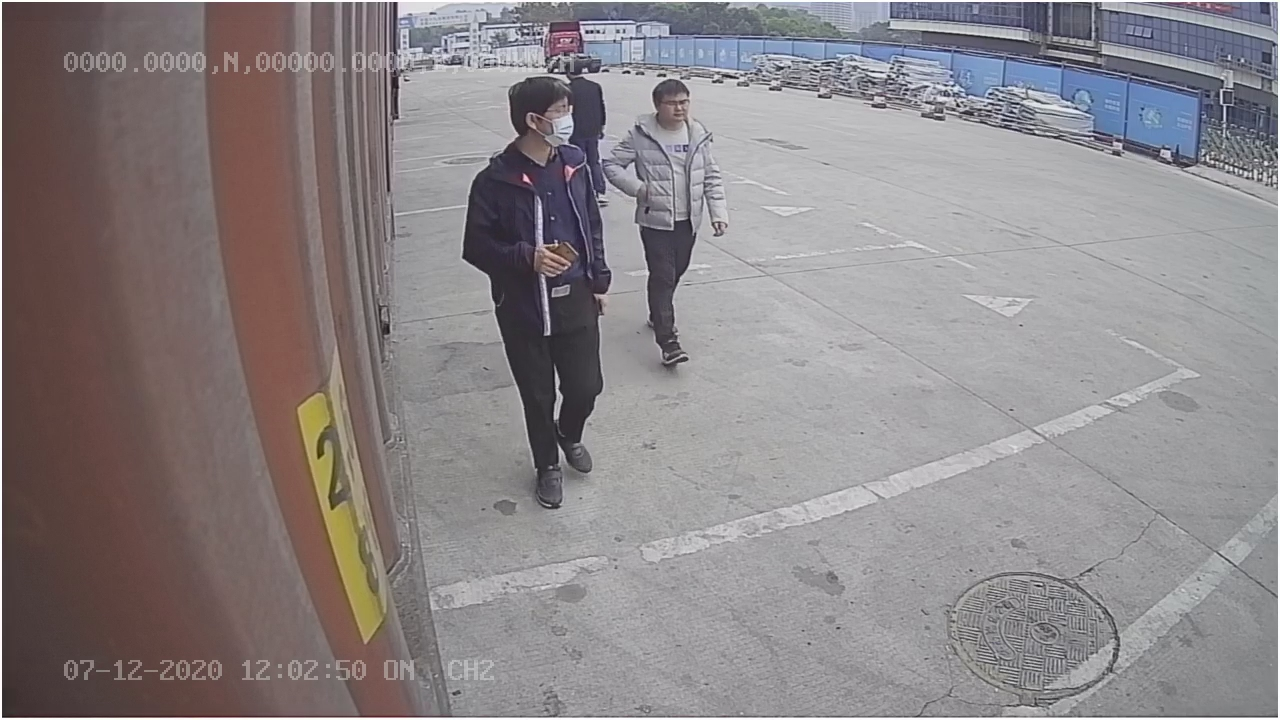person: (462, 77, 613, 509)
